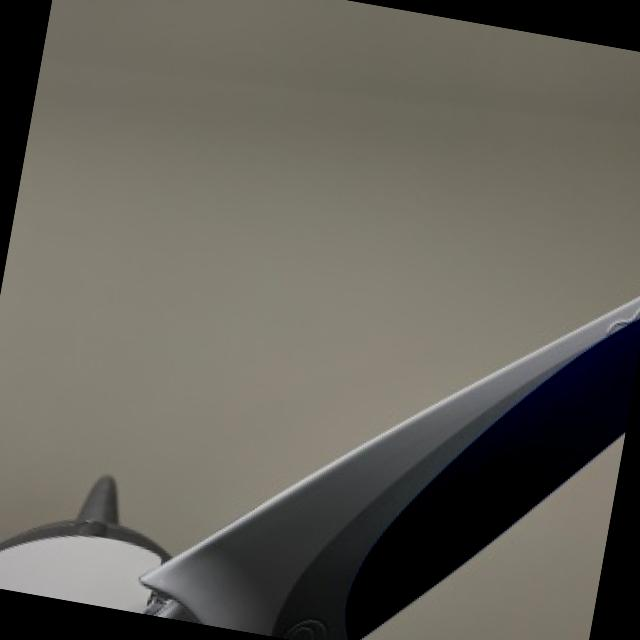healthy: (145, 296, 640, 640)
